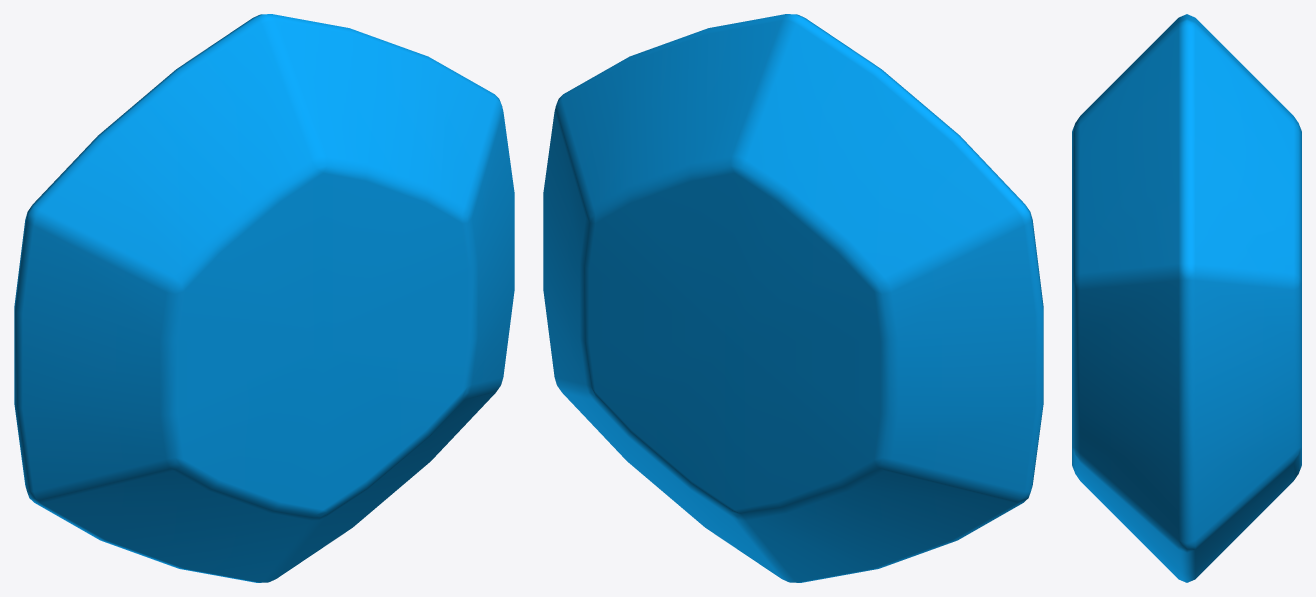
3 views of the same model, side by side, from view 1: azimuth 30°, elevation 25°; view 2: azimuth 150°, elevation 25°; view 3: azimuth 270°, elevation 25° (orthographic). The views are drawn at different scales.
Visible parts, largest first — view 1: model_0.101; view 2: model_0.101; view 3: model_0.101.
Part boxes in pixels (<box>): model_0.101: <box>14,14,514,582</box>; model_0.101: <box>543,14,1043,582</box>; model_0.101: <box>1072,14,1301,582</box>.
Size of the model in its own units: 3.29 by 3.59 by 1.35.
